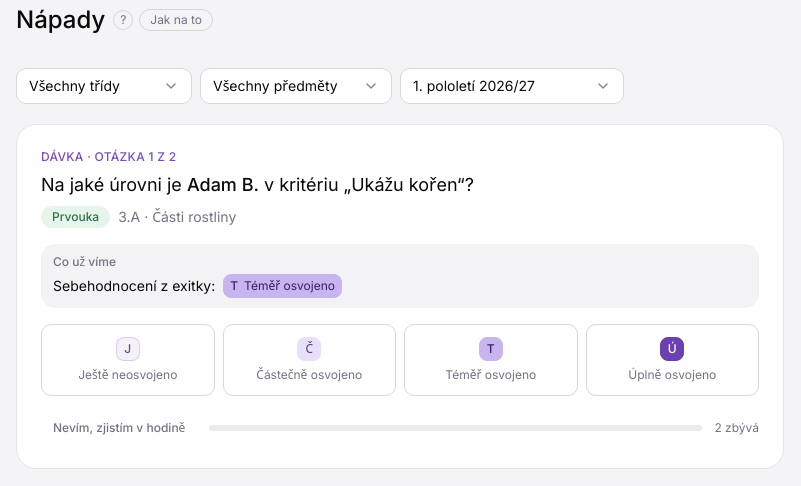
Test: Nápady › records a tapped level and skips on Nevím
Check: the text "Adam B." is shown, box [187, 174, 259, 195]
Check: the list item "Sebehodnocení z exitky:" is shown, box [53, 277, 215, 294]
Click the button "T Téměř osvojeno" at [491, 360], box [404, 324, 578, 396]
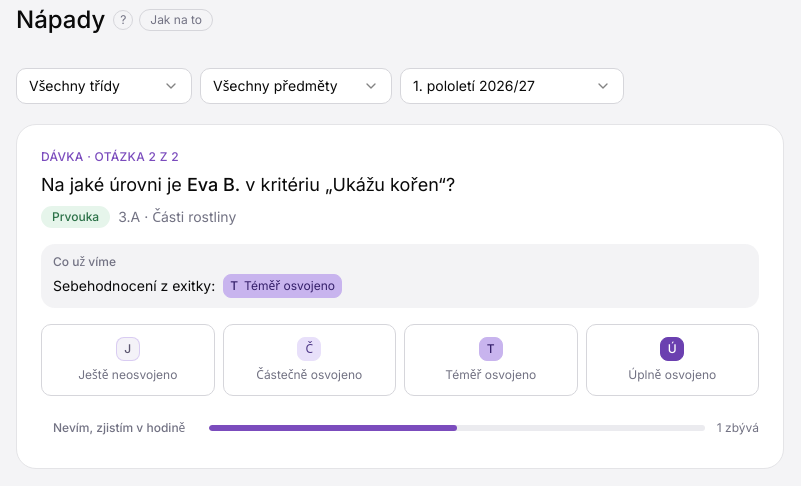
Check: the text "Eva B." is shown, box [187, 174, 240, 195]
Click the button "Nevím, zjistím v hodině" at [119, 428], box [41, 412, 197, 444]
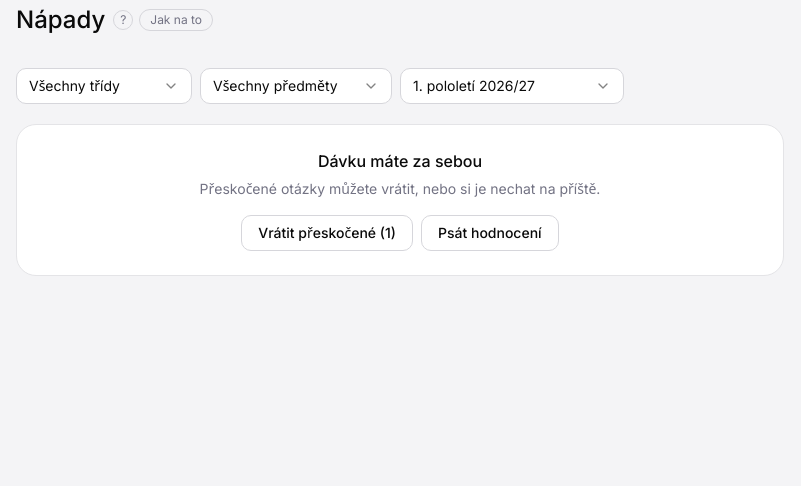
Check: the text "Dávku máte za sebou" is shown, box [318, 151, 482, 171]
Check: the button "Vrátit přeskočené (1)" is shown, box [241, 215, 413, 251]
